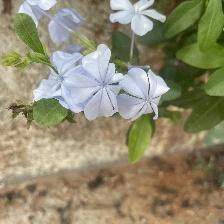chitrak: (69, 50, 127, 123), (116, 69, 171, 125), (110, 1, 166, 38)
